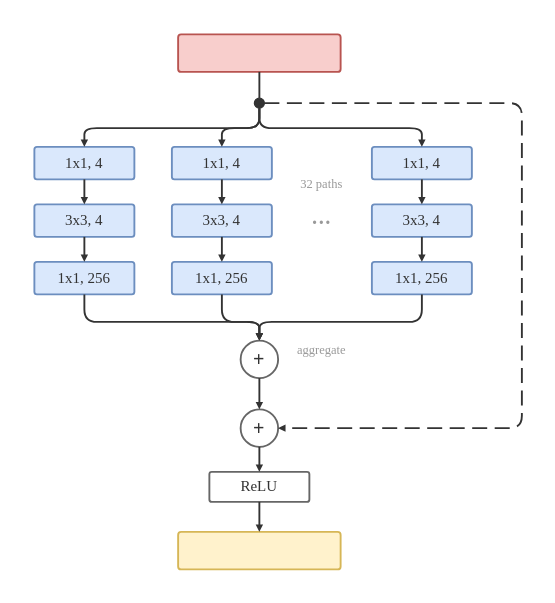
Some shapes in this 555 by 603 pixel diagram are drawn without their labels. The centre of each missing label's shape, as x and y in pixels:
"Input (256-d)" goes at (x=259, y=52).
"Output (256-d)" goes at (x=259, y=550).
